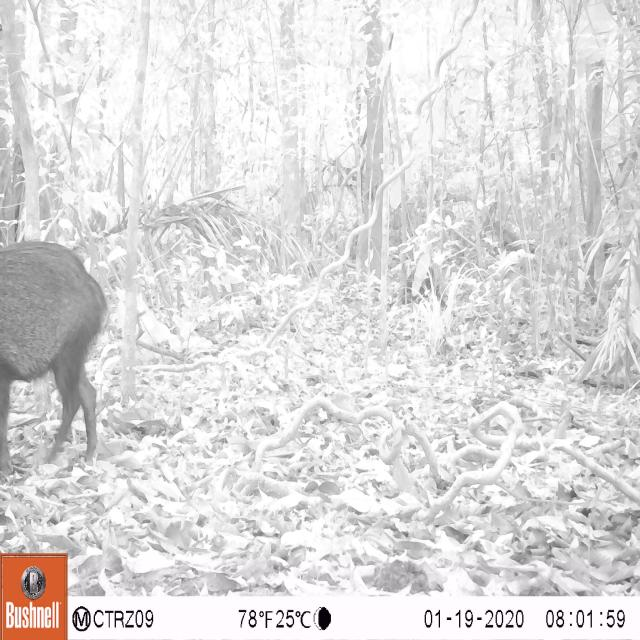Collared Peccary: (0, 224, 103, 480)
